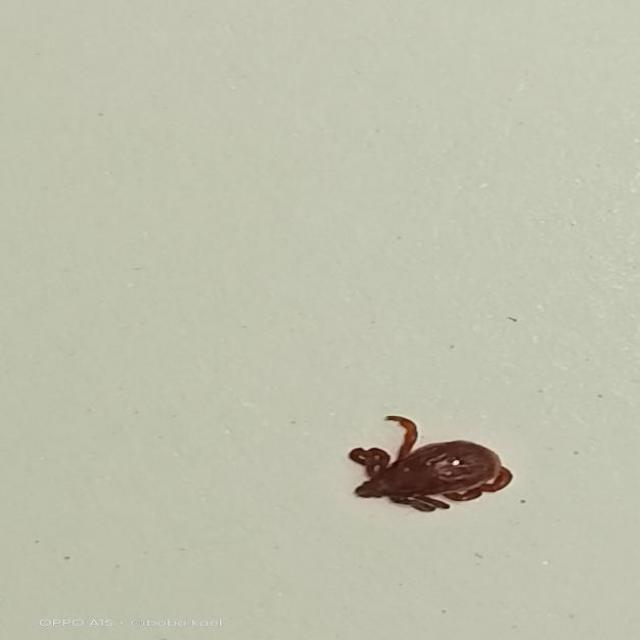Rhipicephalus Sanguineus-M: (346, 416, 514, 514)
